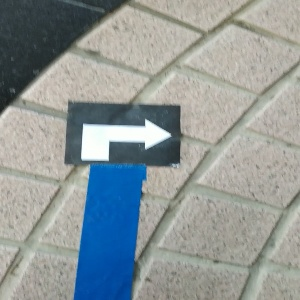right: (67, 101, 182, 166)
